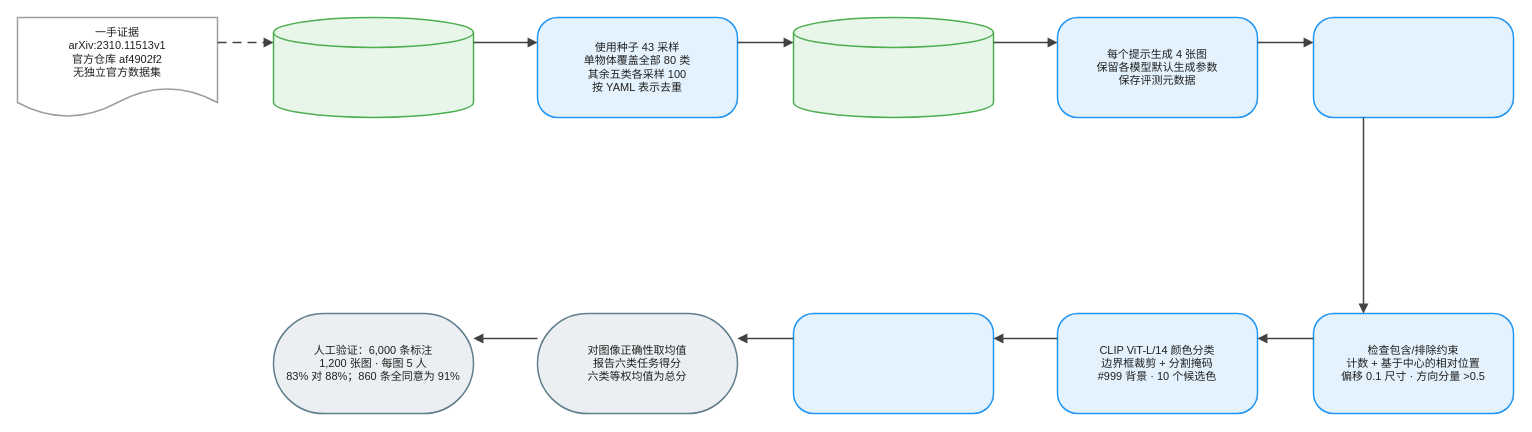
The diagram is 1532 pixels wide and 432 high, and some of its shapes have lost their labels. The centre of each missing label's shape, as x and y in pixels:
COCO Mask2Former 检测 阈值 0.3 · 计数任务 0.9 每类最多保留 16 个物体: (x=1413, y=67)
发布 553 个结构化提示 分项：80/99/80/94/100/100 附带包含/排除约束元数据: (x=893, y=67)
定义六类任务模板 80 个 COCO 类 · 10 色 数量 2–4 · 4 方位: (x=373, y=67)
逐图二值正确性 全部要求通过才计为正确 同时保留失败原因: (x=893, y=363)
